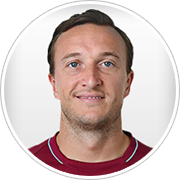smile: (74, 93, 107, 103)
